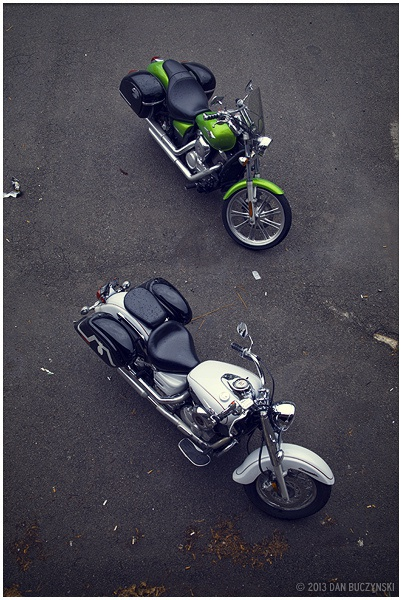non-vehicle: (74, 277, 335, 525), (119, 56, 294, 248)
